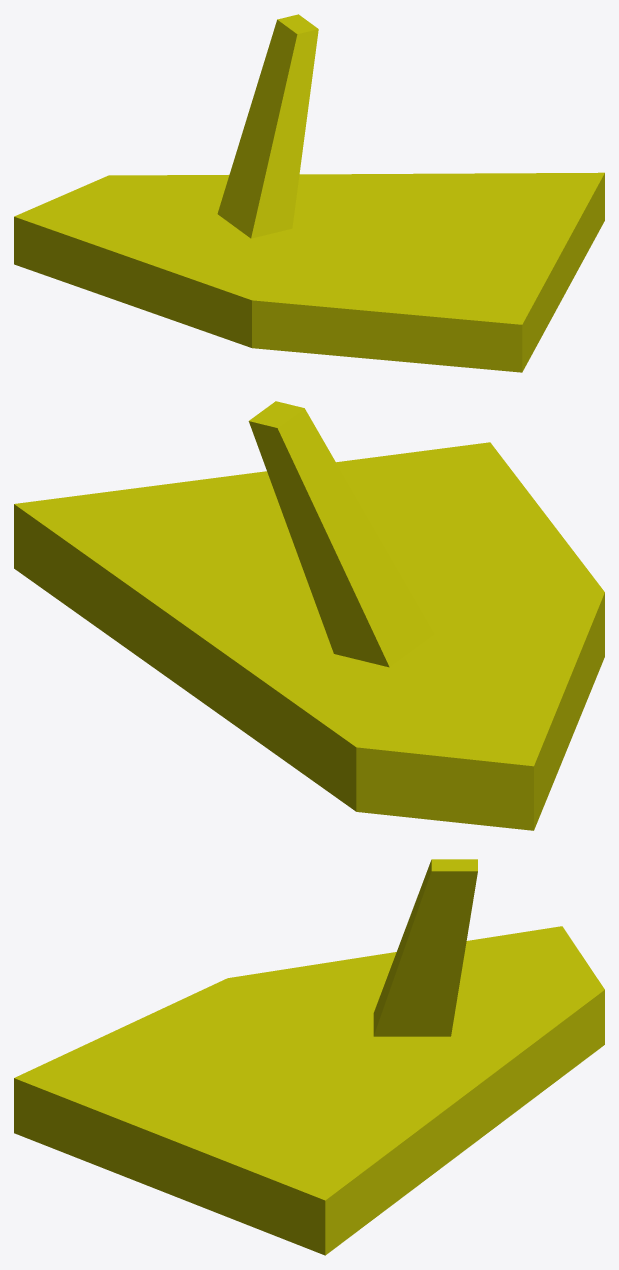
File: x_proval_00_191_1_rmstrd.fbx
3 views of the same model, one above another, from view 1: azimuth 30°, elevation 25°; view 2: azimuth 150°, elevation 25°; view 3: azimuth 270°, elevation 25° (orthographic). The views are drawn at different scales.
Parts seen in each view (by area): view 1: x_proval_00_191_1_rmstrd1; view 2: x_proval_00_191_1_rmstrd1; view 3: x_proval_00_191_1_rmstrd1.
Boxes of the visible parts, left/top/right/bottom form: x_proval_00_191_1_rmstrd1: left=14, top=14, right=604, bottom=372; x_proval_00_191_1_rmstrd1: left=14, top=401, right=604, bottom=830; x_proval_00_191_1_rmstrd1: left=14, top=859, right=604, bottom=1255.
Size of the model in its own units: 2.14 by 0.905 by 1.94.
